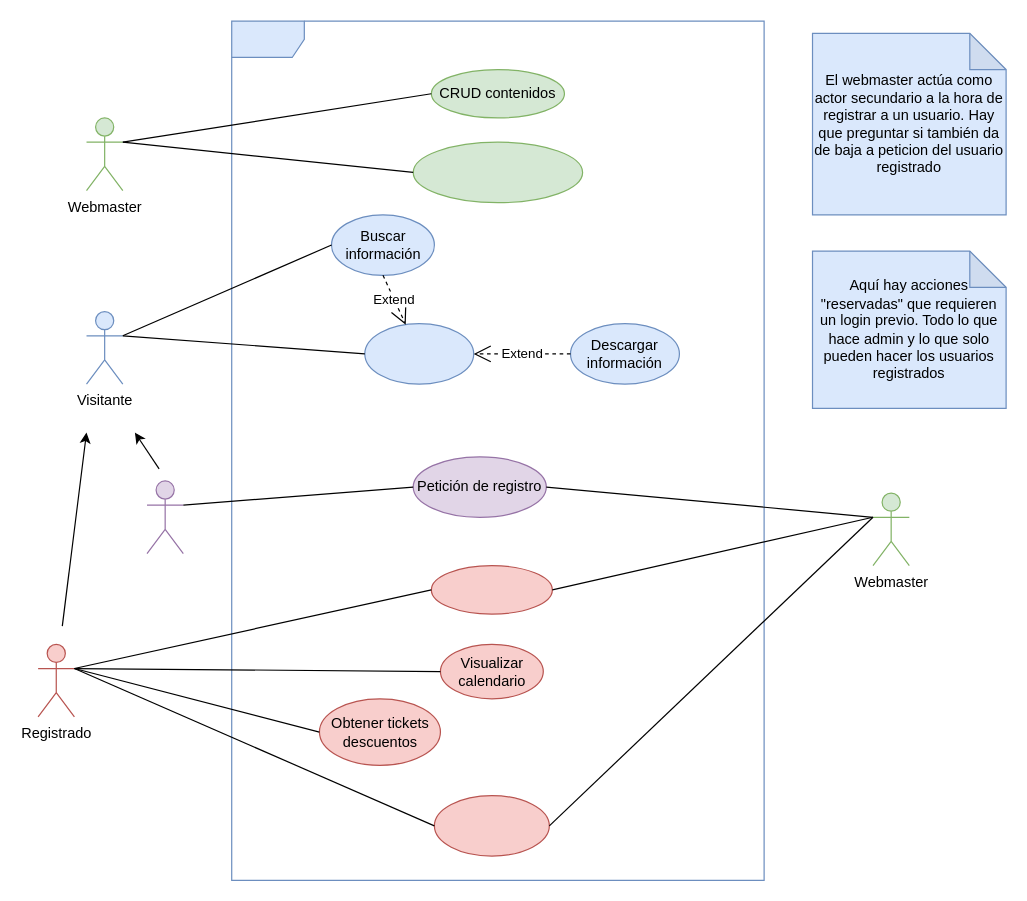
Some shapes in this 1027 by 901 pixel diagram are drawn without their labels. The box of each missing label's shape, as (x1, y1, x2, y2) in pixels:
Mantenimiento usuarios registrados: (412, 141, 583, 203)
no registrado: (146, 480, 183, 554)
Pequeños Viajeros: (231, 20, 764, 880)
Solicitar baja: (430, 564, 552, 614)
Subir contenidos: (433, 794, 549, 856)
Visualizar información: (364, 322, 474, 384)
